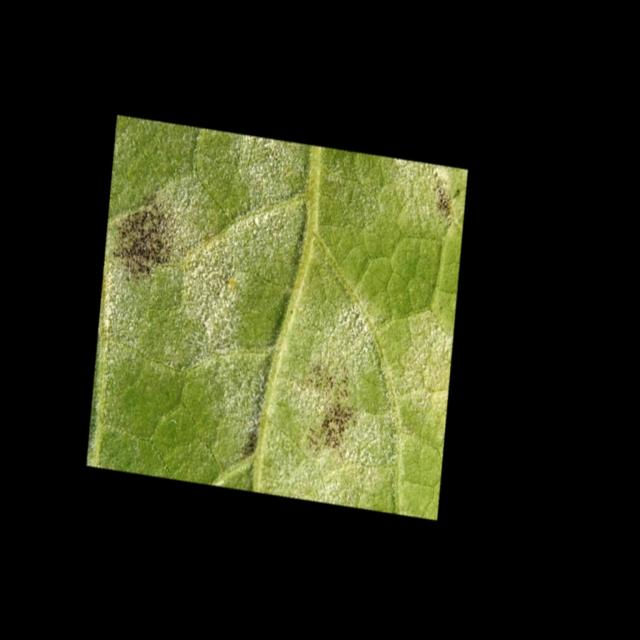Powdery_mildew_on_lettuce: (90, 111, 468, 520)
